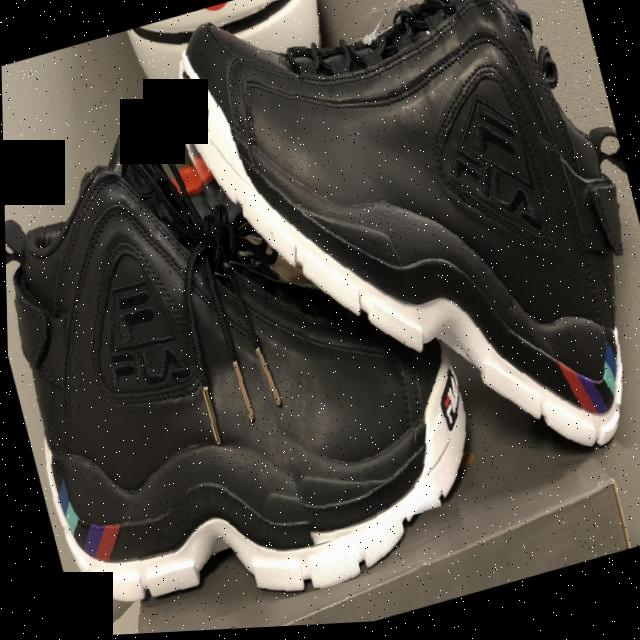shoe: (1, 44, 480, 640), (153, 0, 640, 561)
